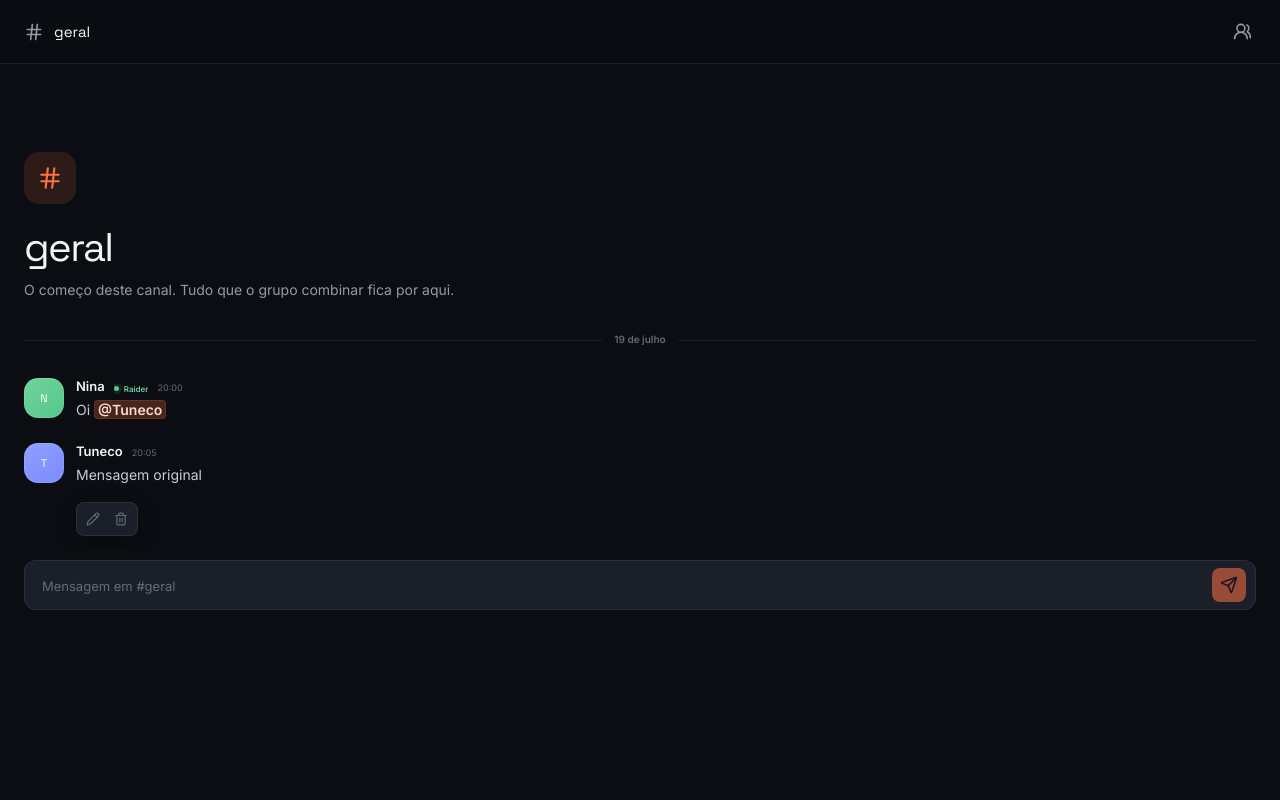
Scenario: ChatPanel › oferece menções e destaca quando o usuário atual foi marcado
Check: the text with class "message-mention--self" reads "@Tuneco", box [98,401,162,418]
Check: the text "Raider" is shown, box [114,384,148,394]
Type "@Ni" into the text box named "Mensagem em geral".
click(640, 585); type("@Ni")  # box [24,560,1256,610]
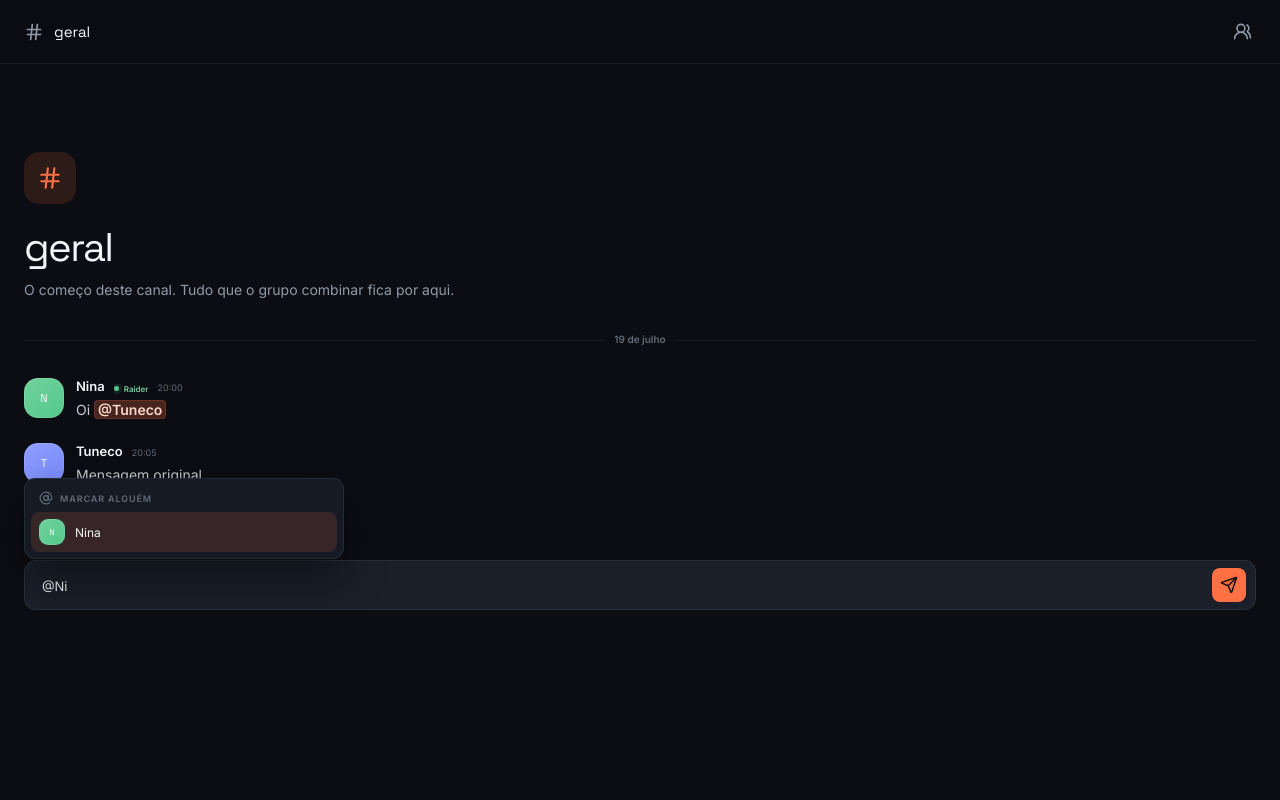
Check: the option "N Nina" is shown, box [31,512,337,552]
Press Enter in the text box named "Mensagem em geral", box [24,560,1256,610]
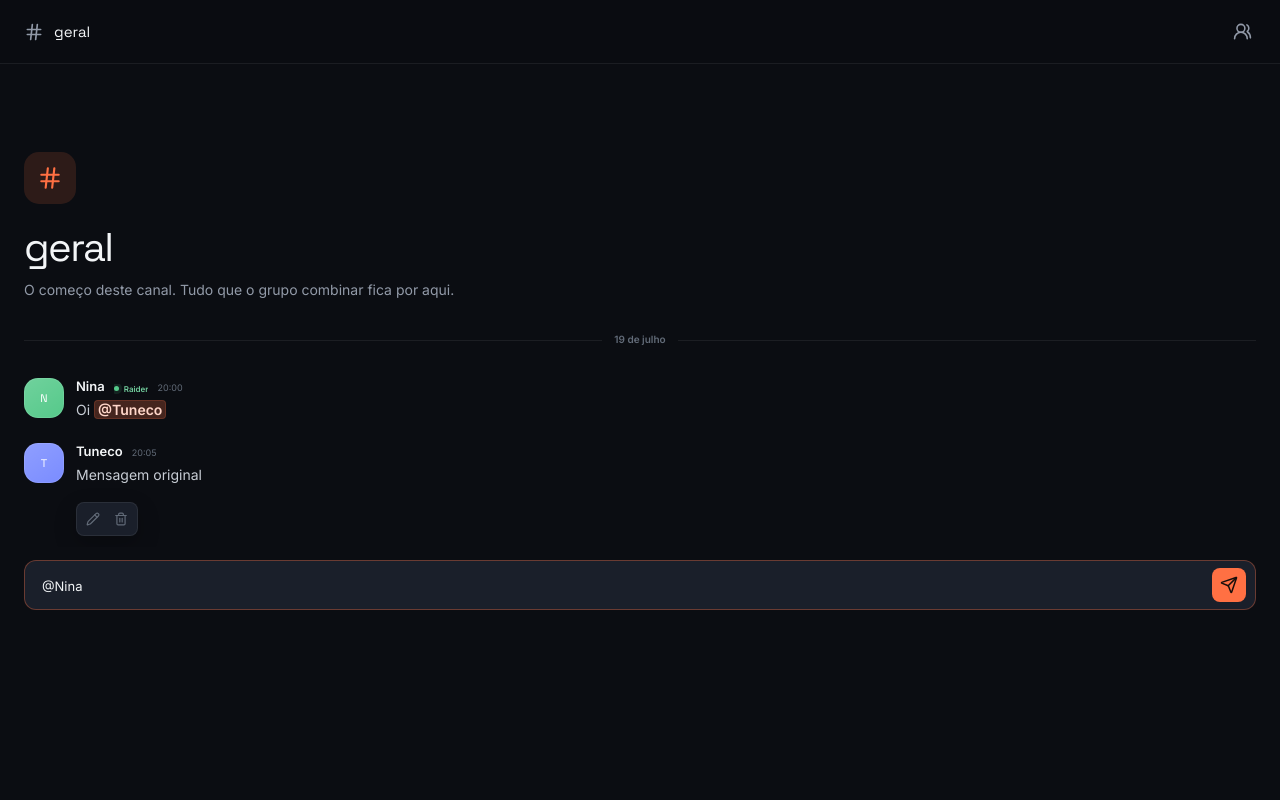
Check: the text box named "Mensagem em geral" holds "@Nina ", box [24,560,1256,610]
